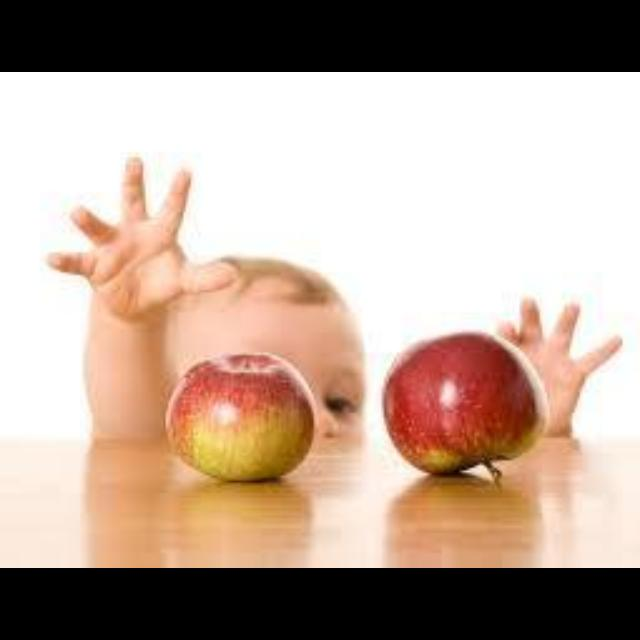apple: (381, 333, 545, 479), (166, 353, 311, 481)
